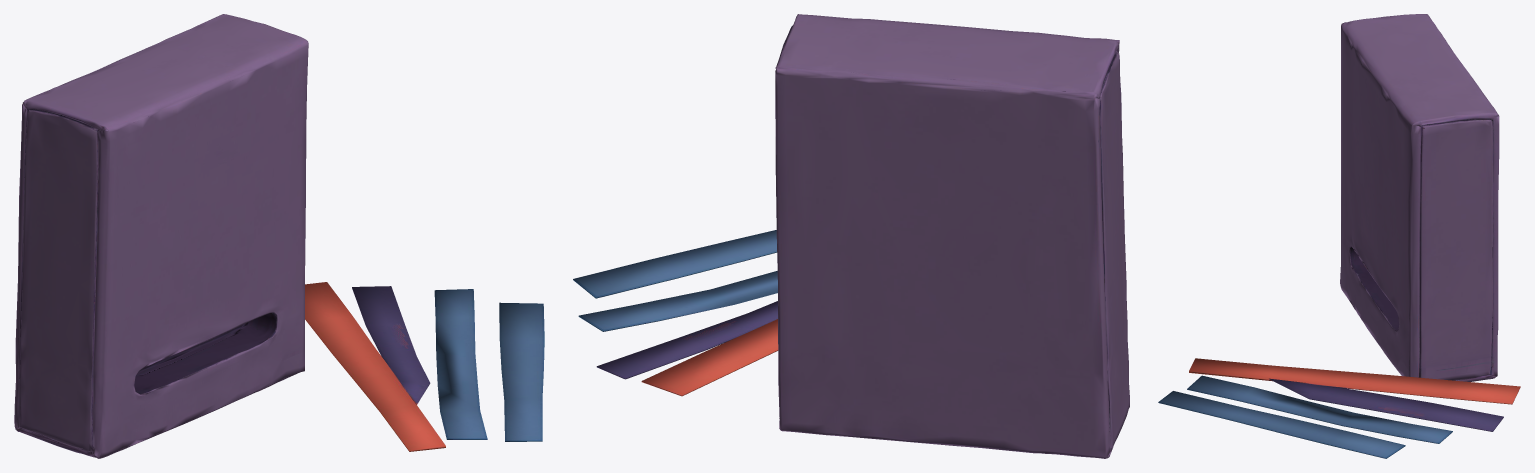
The model's file is 019f4e31-a2e4-79cc-9b59-a55ead8abe08.glb.
3 renders of one model, left to right at view 1: azimuth 30°, elevation 25°; view 2: azimuth 150°, elevation 25°; view 3: azimuth 270°, elevation 25°, orthographic. The views are drawn at different scales.
Visible parts, largest first — view 1: tripo_node_270315df-6826-47b4-8b14-636d88be2cf8; view 2: tripo_node_270315df-6826-47b4-8b14-636d88be2cf8; view 3: tripo_node_270315df-6826-47b4-8b14-636d88be2cf8.
Part boxes in pixels (left/top/right/bottom): tripo_node_270315df-6826-47b4-8b14-636d88be2cf8: left=14, top=14, right=544, bottom=458; tripo_node_270315df-6826-47b4-8b14-636d88be2cf8: left=573, top=14, right=1129, bottom=458; tripo_node_270315df-6826-47b4-8b14-636d88be2cf8: left=1158, top=14, right=1520, bottom=458.
Bounding box in the file's own units: 0.998 × 0.6348 × 0.7637.
Materials: 1 (1 with a texture image).
